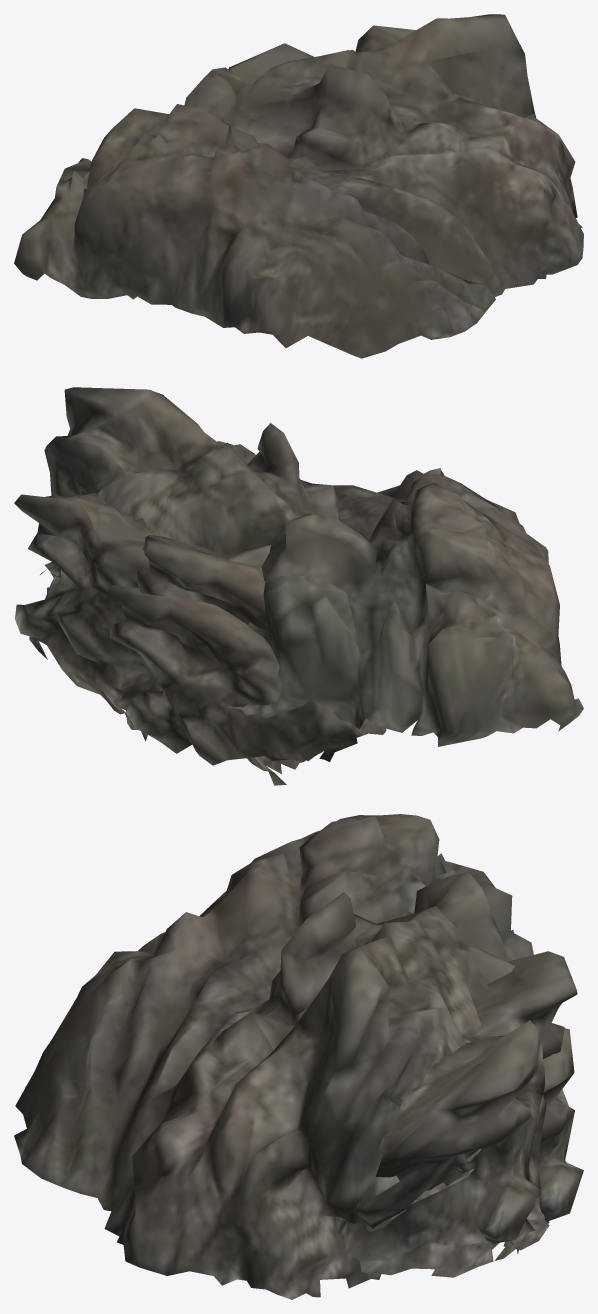
File: SM_pal_b00_Rock_MineableRocks_GroundRevealRock_var1_adb022.glb
3 views of the same model, one above another, from view 1: azimuth 30°, elevation 25°; view 2: azimuth 150°, elevation 25°; view 3: azimuth 270°, elevation 25° (orthographic). The views are drawn at different scales.
Bounding box in the file's own units: 4.33 × 2.23 × 3.01.
Materials: 1 (1 with a texture image).
